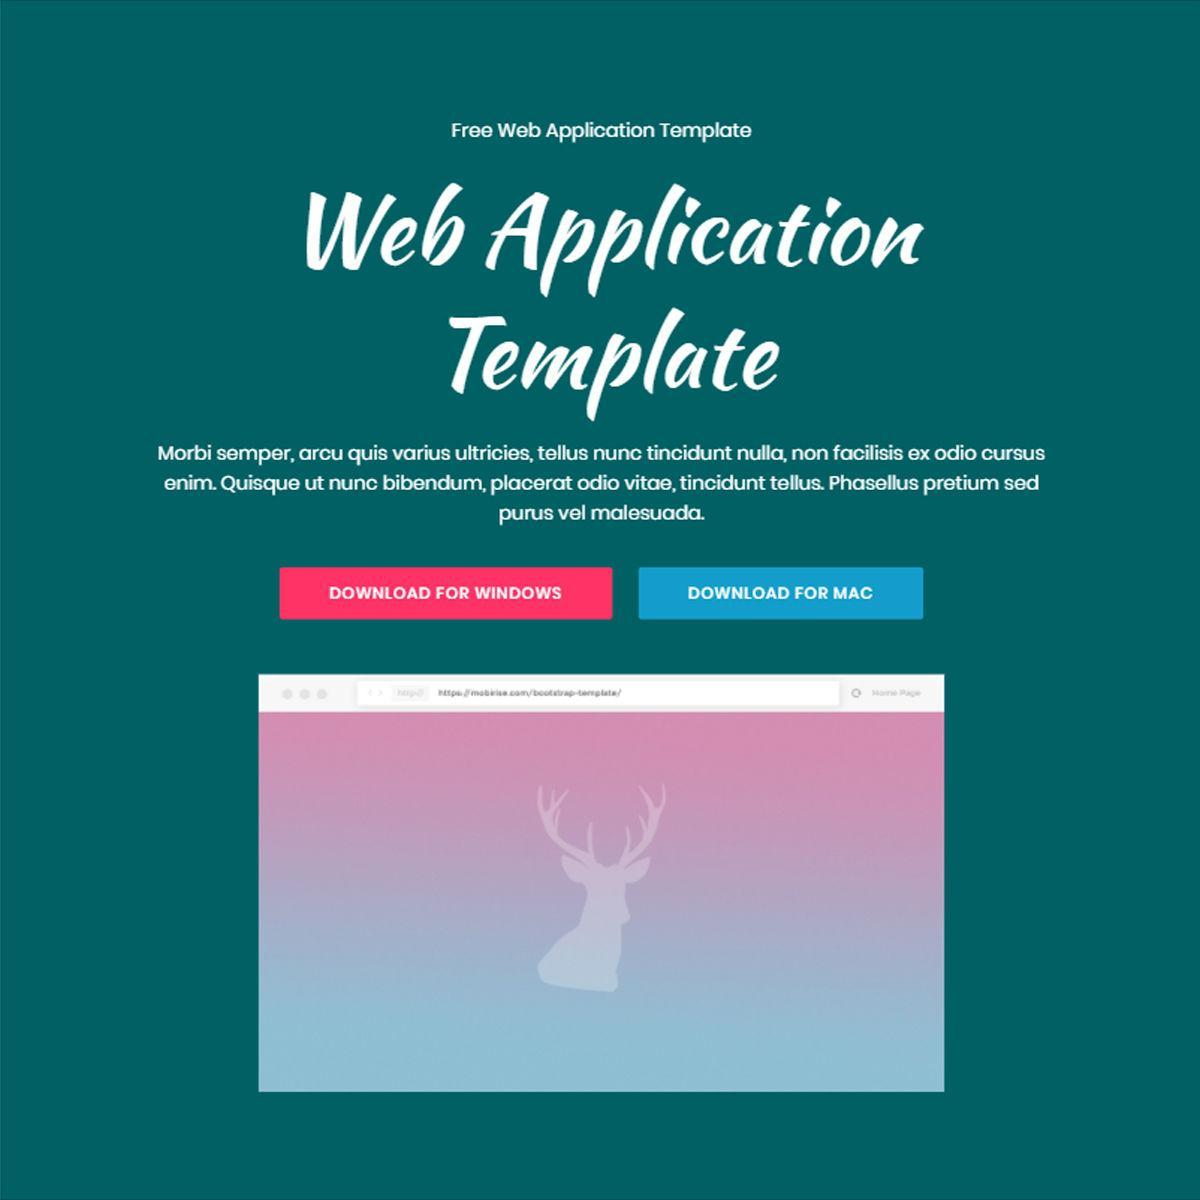button: (279, 569, 614, 619), (641, 568, 924, 619)
